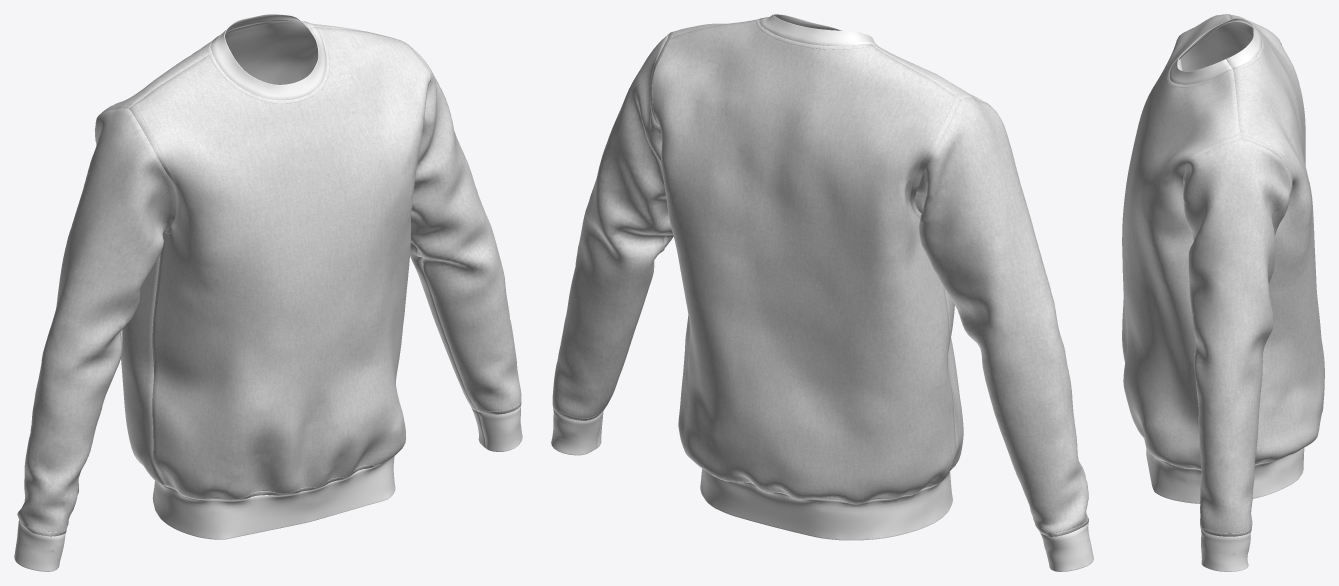
Rendered from crewneck.glb.
3 renders of one model, left to right at view 1: azimuth 30°, elevation 25°; view 2: azimuth 150°, elevation 25°; view 3: azimuth 270°, elevation 25°, orthographic. The views are drawn at different scales.
Visible parts, largest first — view 1: outside, details, inside; view 2: outside, details; view 3: outside, details, inside.
Part boxes in pixels (bbox=[...]): outside: bbox=[17, 23, 521, 536]; details: bbox=[14, 14, 522, 571]; inside: bbox=[27, 20, 503, 571]; outside: bbox=[552, 18, 1088, 536]; details: bbox=[551, 14, 1093, 571]; outside: bbox=[1122, 14, 1324, 536]; details: bbox=[1144, 18, 1304, 571]; inside: bbox=[1177, 21, 1253, 571].
Size of the model in its own units: 1.56 by 1.39 by 0.5881.
3 materials, 1 textured.
